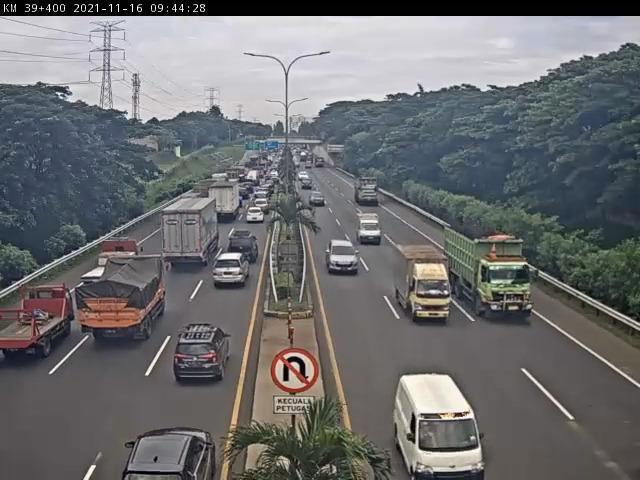car: (395, 378, 485, 480), (174, 327, 233, 380), (226, 233, 260, 270), (212, 257, 247, 291), (327, 241, 361, 274), (246, 210, 265, 225)
truck: (74, 257, 168, 346), (443, 231, 535, 321), (2, 291, 73, 364), (393, 245, 454, 321), (159, 200, 219, 275), (77, 240, 138, 287), (207, 182, 244, 222), (358, 214, 385, 245), (356, 175, 380, 207)
